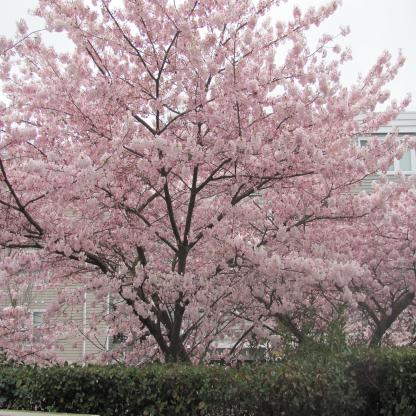Someiyoshino: (1, 2, 415, 377)
